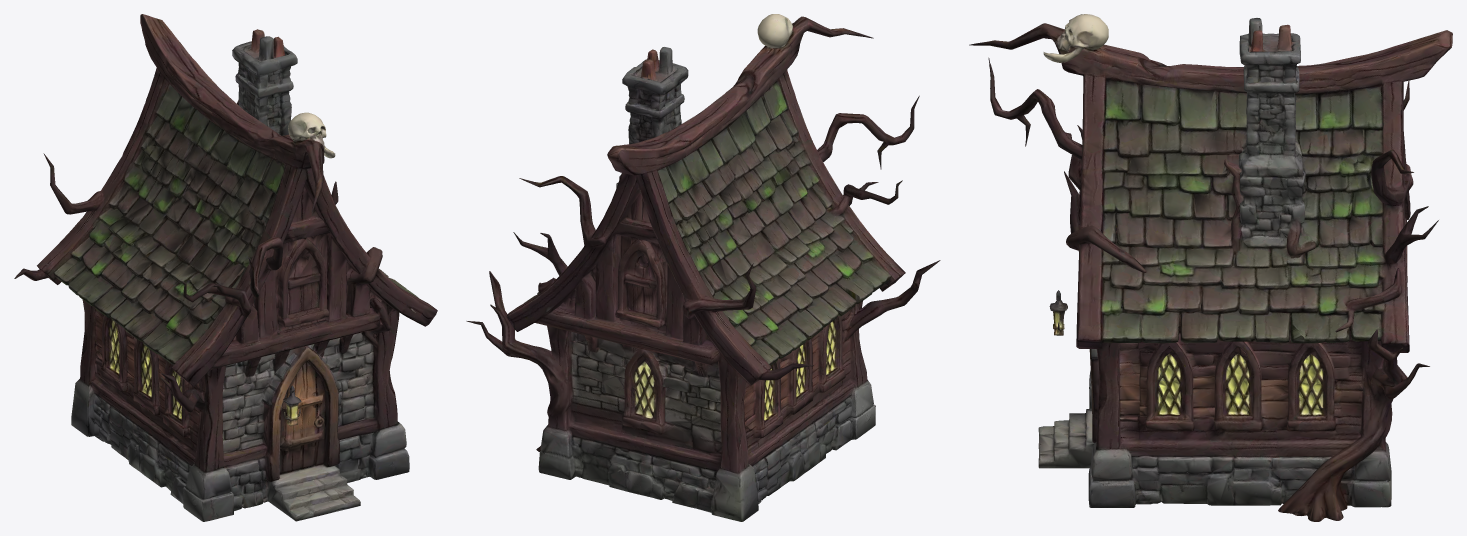
File: skullcrest_cottage.glb
3 views of the same model, side by side, from view 1: azimuth 30°, elevation 25°; view 2: azimuth 150°, elevation 25°; view 3: azimuth 270°, elevation 25° (orthographic). The views are drawn at different scales.
Size of the model in its own units: 1.62 by 1.9 by 1.85.
Materials: 1 (1 with a texture image).
